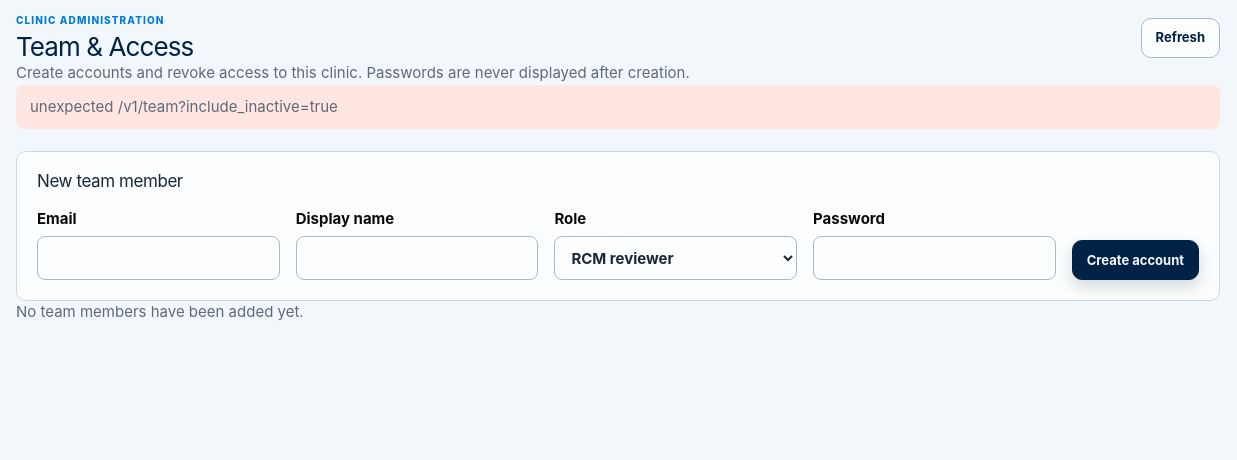
creates a real clinic account and can revoke its membership
This screenshot has width=1237, height=460.
Expected: the text "No team members have been added yet." is shown, 16,302 -> 304,321
Type "rev@example.test" into the field labelled "Email" at (158, 258), box 37,236 -> 280,280
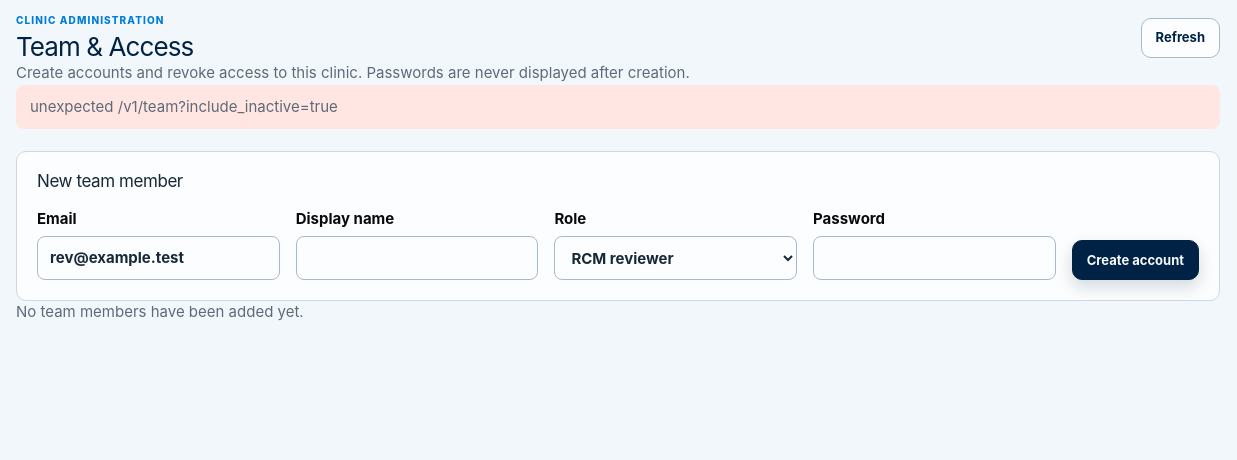
Type "correct horse battery staple" into the password field labelled "Password" at (934, 258), box 813,236 -> 1056,280
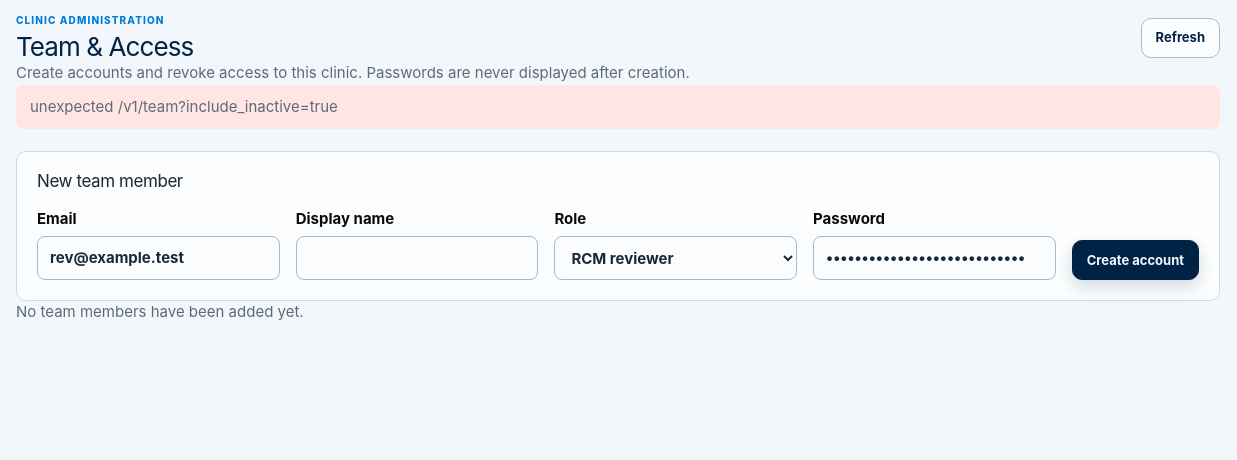
Click the button "Create account" at (1135, 260), box 1072,240 -> 1199,280
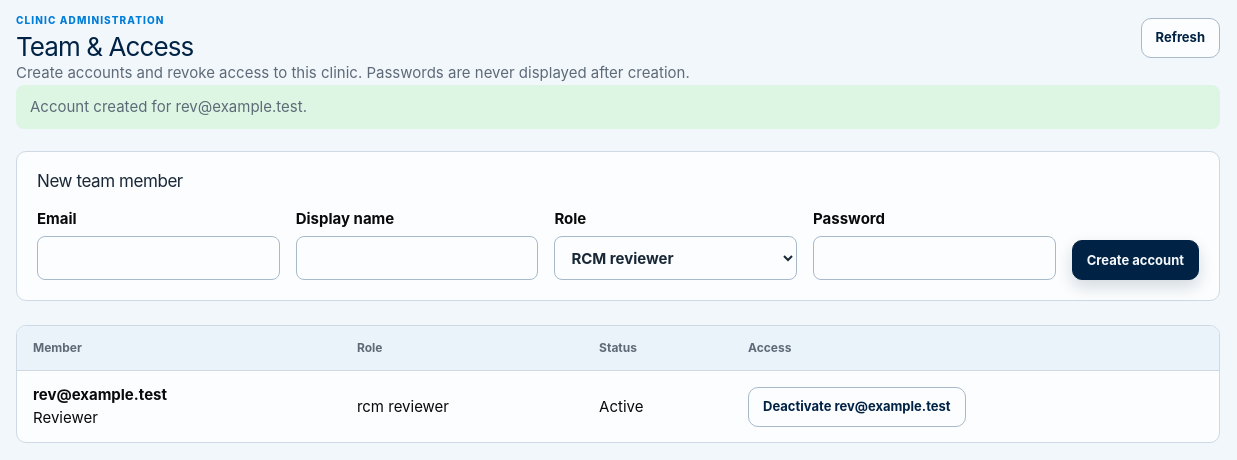
Expected: the text "rev@example.test" is shown, 33,385 -> 167,404
Click the button "Deactivate rev@example.test" at (857, 407), box 748,387 -> 966,427
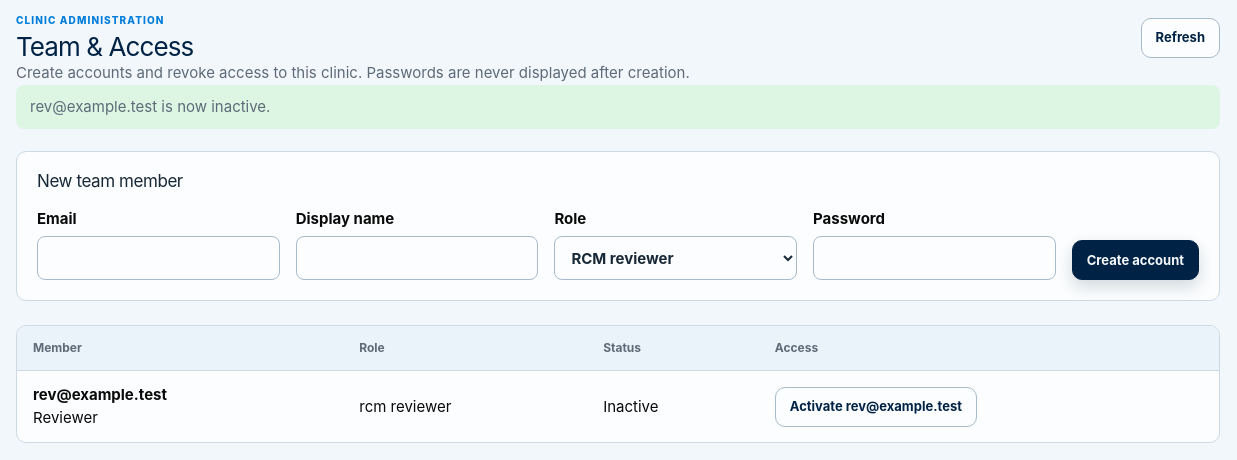
Expected: the text "Inactive" is shown, 587,371 -> 759,442
